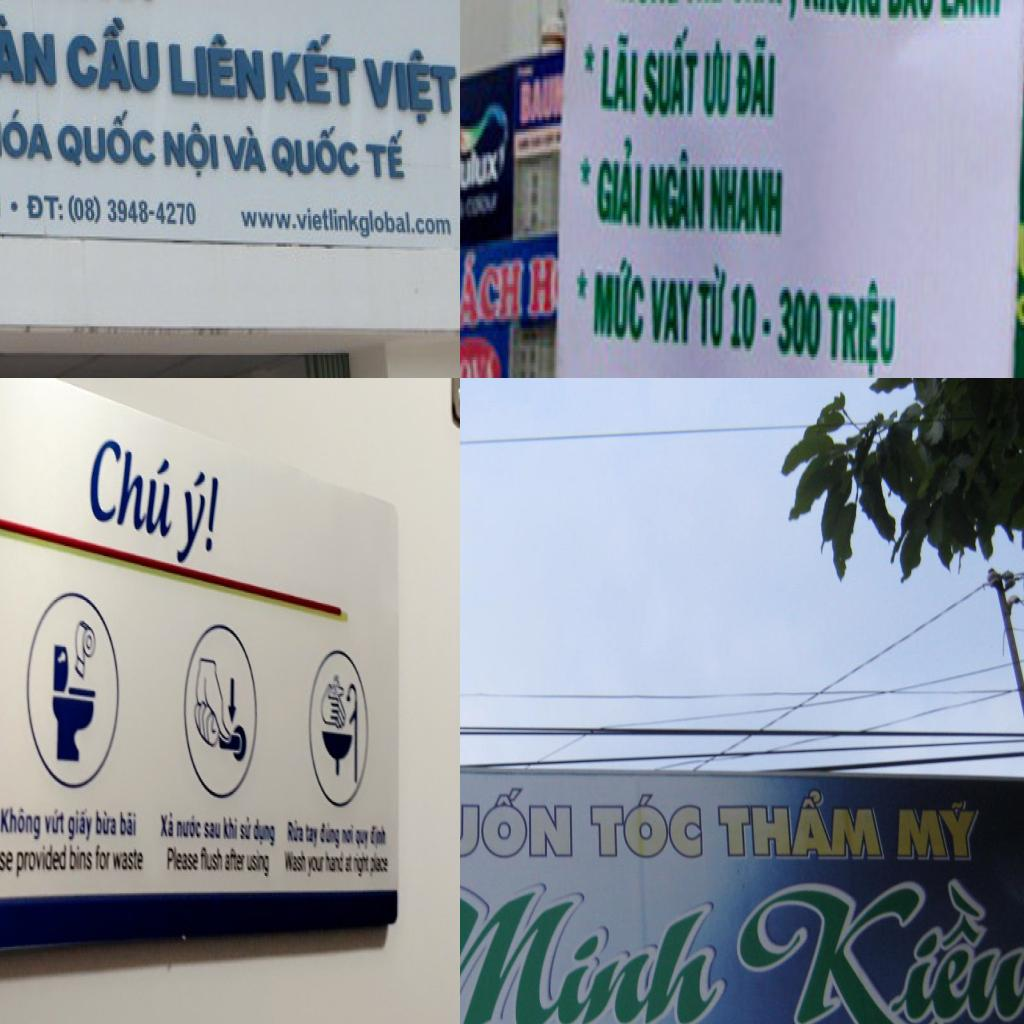text: (733, 873, 1024, 1024), (460, 877, 728, 1024), (715, 787, 886, 863), (88, 428, 177, 545), (60, 10, 166, 100), (355, 46, 460, 130), (460, 785, 576, 861), (588, 788, 706, 862), (269, 24, 365, 114), (166, 26, 271, 108), (823, 272, 901, 378), (234, 206, 458, 242), (705, 158, 788, 243), (52, 108, 158, 171), (460, 243, 526, 336), (644, 144, 708, 237), (641, 21, 699, 123), (266, 122, 365, 181), (591, 246, 650, 345), (0, 3, 61, 95), (895, 798, 982, 862), (68, 192, 205, 232), (595, 132, 646, 231), (174, 465, 220, 572), (774, 275, 825, 366), (158, 116, 222, 185), (646, 266, 696, 352), (734, 30, 780, 123), (597, 27, 641, 120), (0, 105, 59, 164), (696, 255, 728, 357), (360, 126, 413, 187), (727, 278, 760, 360), (221, 124, 272, 177), (704, 35, 734, 123), (518, 67, 556, 129), (798, 0, 882, 26), (460, 143, 500, 196), (527, 255, 557, 322), (728, 0, 800, 26), (21, 190, 69, 226), (937, 0, 1003, 26), (15, 847, 68, 879), (0, 804, 42, 843), (882, 0, 936, 29), (66, 806, 94, 845), (165, 843, 199, 873), (460, 351, 497, 378), (112, 846, 146, 875), (252, 816, 276, 852), (94, 806, 118, 838), (320, 819, 342, 853), (246, 852, 270, 882), (68, 846, 94, 873), (578, 41, 597, 76), (44, 806, 66, 836), (578, 144, 594, 184), (574, 260, 589, 302), (118, 809, 139, 839), (176, 815, 202, 839), (199, 849, 225, 873), (323, 852, 346, 879), (157, 809, 176, 841), (283, 850, 308, 874), (94, 842, 112, 873), (225, 850, 247, 874), (304, 822, 320, 852), (222, 812, 239, 840), (287, 819, 305, 845), (370, 823, 388, 849), (759, 316, 774, 346), (0, 843, 13, 875), (204, 816, 222, 839), (307, 856, 325, 877), (355, 826, 370, 850), (354, 853, 370, 875), (240, 815, 253, 840), (1017, 290, 1024, 334), (342, 825, 354, 849), (346, 855, 354, 876)
